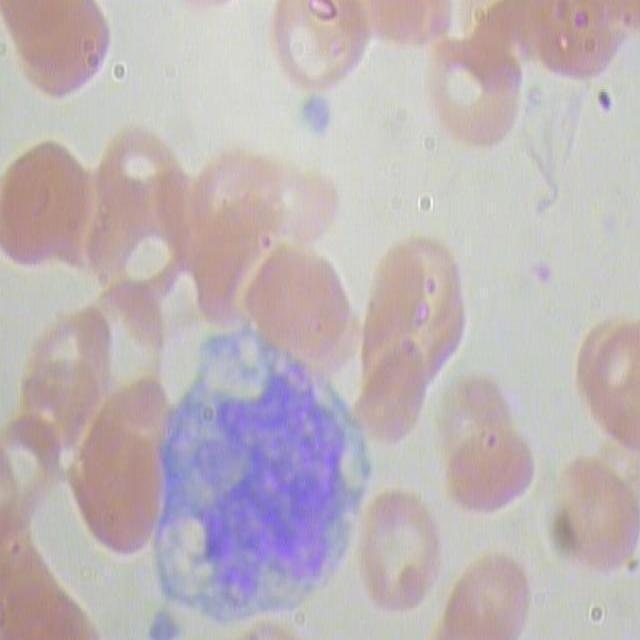Platelets: (291, 93, 337, 143)
RBC: (1, 0, 134, 112), (373, 237, 484, 371), (411, 28, 522, 161), (248, 229, 351, 372), (62, 415, 165, 557), (354, 469, 448, 624), (1, 135, 102, 277), (91, 119, 204, 240), (537, 448, 638, 577), (440, 427, 540, 536), (266, 0, 374, 95), (435, 540, 538, 639), (564, 320, 640, 453), (353, 331, 428, 460)
WBC: (145, 320, 361, 635)
